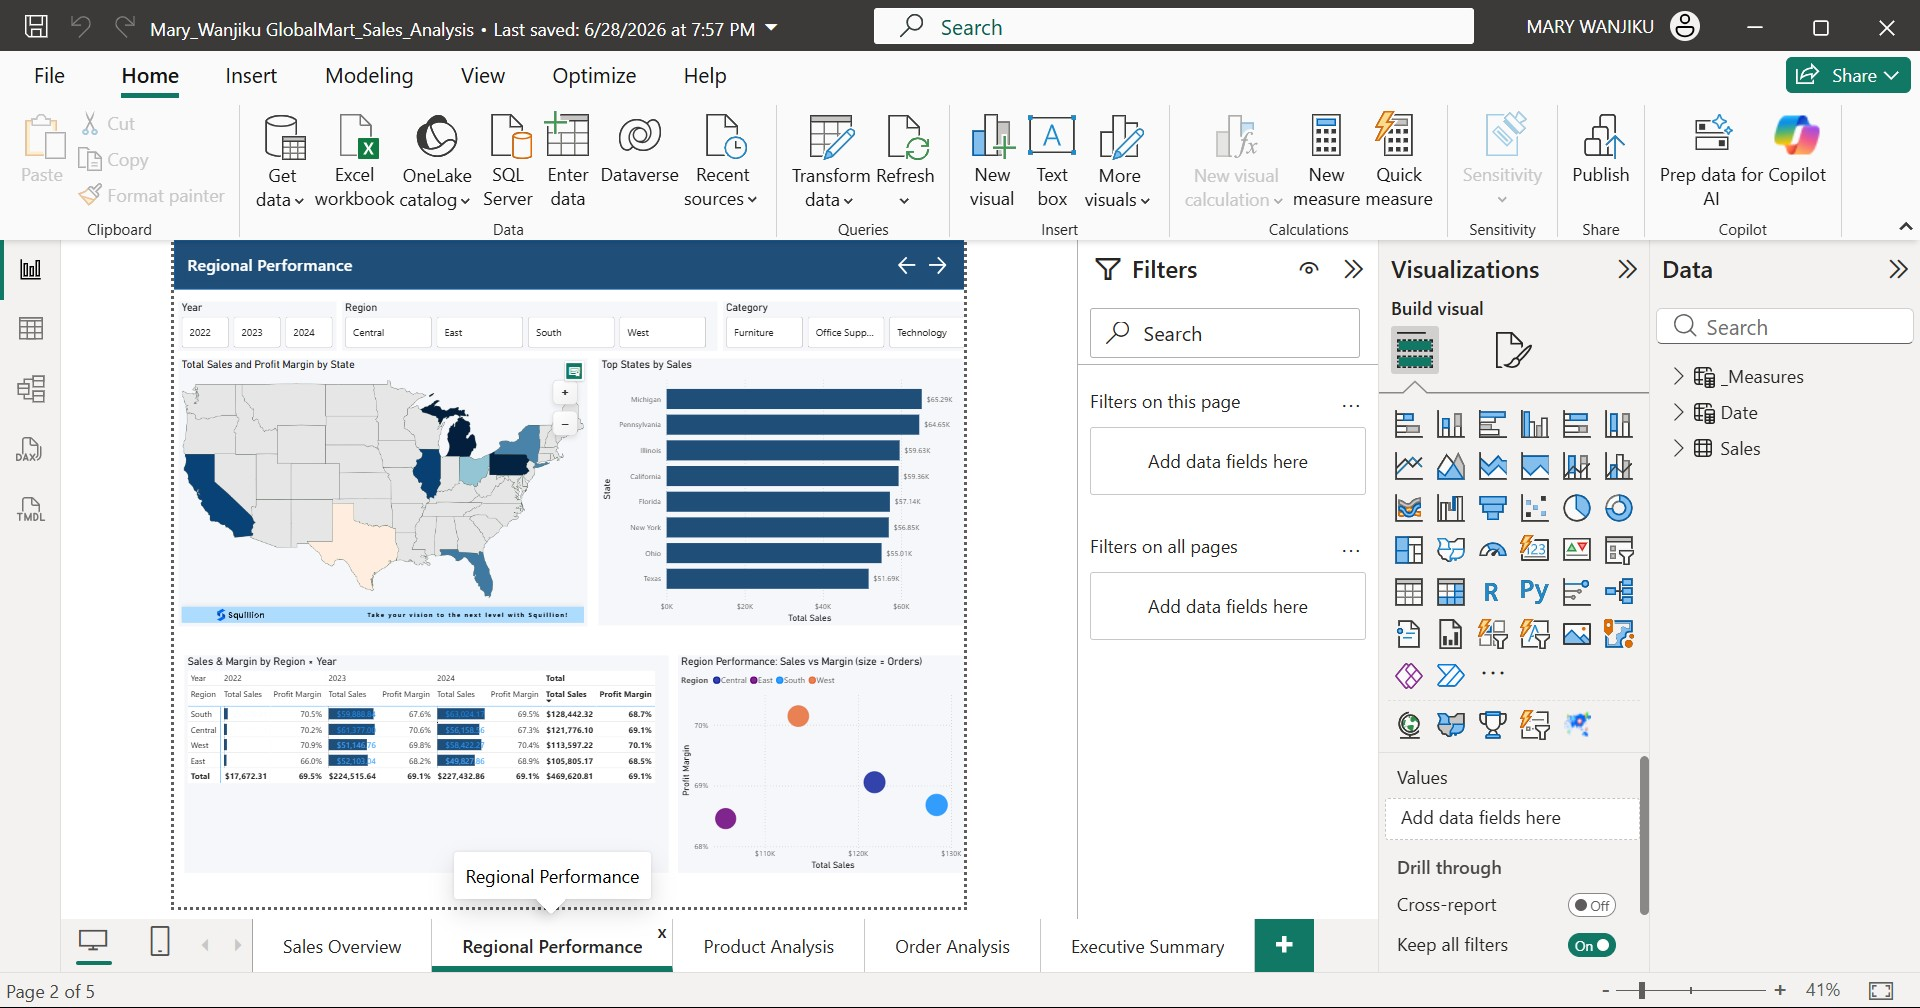

The page's visual inventory and layout, read from the dashboard file:
{"tool":"powerbi","page":{"name":"Regional Performance","canvas":[1280,1080],"ordinal":1},"visuals":[{"type":"group","id":"g1","title":"Group 1","box":[0,0,1280,80],"z":0},{"type":"shape","box":[0,0,1280,80],"z":0,"group":"g1"},{"type":"textbox","box":[16,16,288,48],"z":1000,"group":"g1"},{"type":"advancedSlicerVisual","fields":{"Values":["Sales.Region"]},"box":[272.3,99.3,608,80],"z":1000},{"type":"advancedSlicerVisual","fields":{"Values":["DimDate.Year"]},"box":[8.3,99.3,256,80],"z":2000},{"type":"advancedSlicerVisual","fields":{"Values":["Sales.Category"]},"box":[888.3,99.3,400,80],"z":3000},{"type":"barChart","title":"Top States by Sales","fields":{"Category":["Sales.State"],"Y":["_Measures.Total Sales"]},"box":[688,192,592,432],"z":4000},{"type":"pivotTable","title":" Sales & Margin by Region × Year","fields":{"Rows":["Sales.Region"],"Columns":["DimDate.Year"],"Values":["_Measures.Total Sales","_Measures.Profit Margin"]},"box":[16,672,784,352],"z":5000},{"type":"scatterChart","title":"Region Performance: Sales vs Margin (size = Orders)","fields":{"X":["_Measures.Total Sales"],"Y":["_Measures.Profit Margin"],"Size":["_Measures.Total Orders"],"Series":["Sales.Region"],"Category":["Sales.Region"]},"box":[816,672,464,352],"z":6000},{"type":"actionButton","box":[1216,16,48,48],"z":7000},{"type":"actionButton","box":[1168,16,32,48],"z":8000},{"type":"MapBySquillion","fields":{"category":["Sales.State","Sales.Region"],"value":["_Measures.Total Sales"]},"box":[7.3,191.9,660.6,432.3],"z":9000}]}

Visuals, with their boxes on the page's 1280x1080 design canvas (x1, y1, x2, y2). These are canvas units, not pixel positions in the 1920x1008 screenshot, which may show the page scaled, cropped or inside an application window:
"Group 1" group: 0 0 1280 80
shape: 0 0 1280 80
textbox: 16 16 304 64
advancedSlicerVisual - Sales.Region: 272 99 880 179
advancedSlicerVisual - DimDate.Year: 8 99 264 179
advancedSlicerVisual - Sales.Category: 888 99 1288 179
"Top States by Sales" barChart: 688 192 1280 624
" Sales & Margin by Region × Year" pivotTable: 16 672 800 1024
"Region Performance: Sales vs Margin (size = Orders)" scatterChart: 816 672 1280 1024
actionButton: 1216 16 1264 64
actionButton: 1168 16 1200 64
MapBySquillion - Sales.State x Sales.Region: 7 192 668 624
